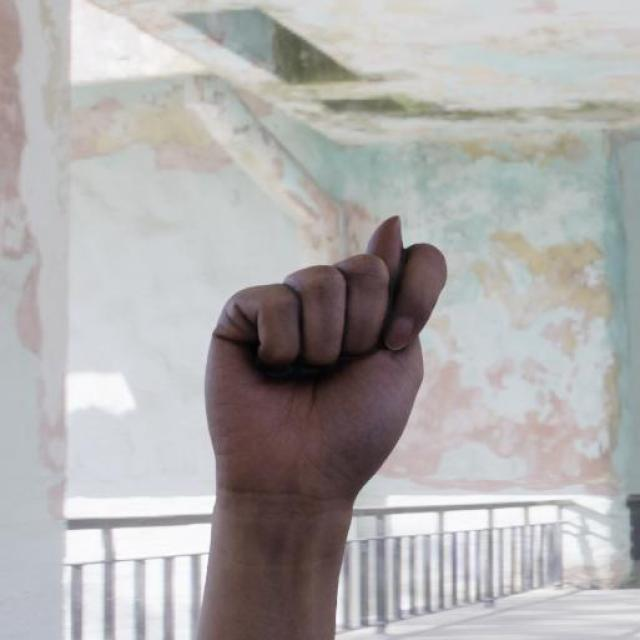T: (202, 213, 453, 506)
